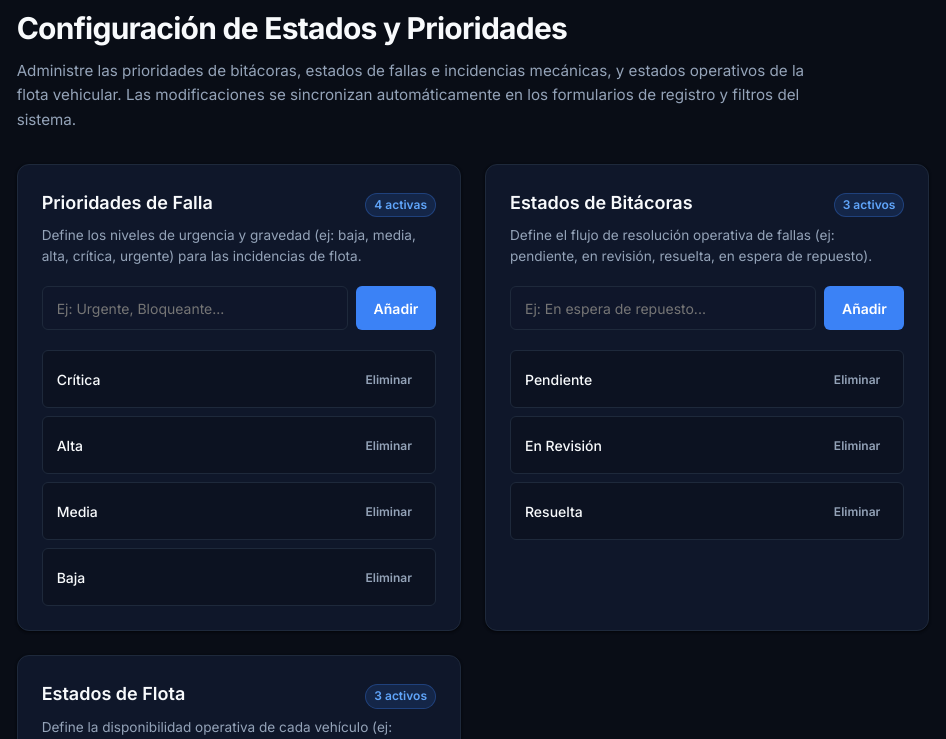
Test case: ConfiguracionCatalogosPage › evita agregar prioridades duplicadas y anuncia el error
This screenshot has width=946, height=739.
In the field named "Nombre de nueva prioridad": point(195, 308) [42,286,348,330], type "alta"
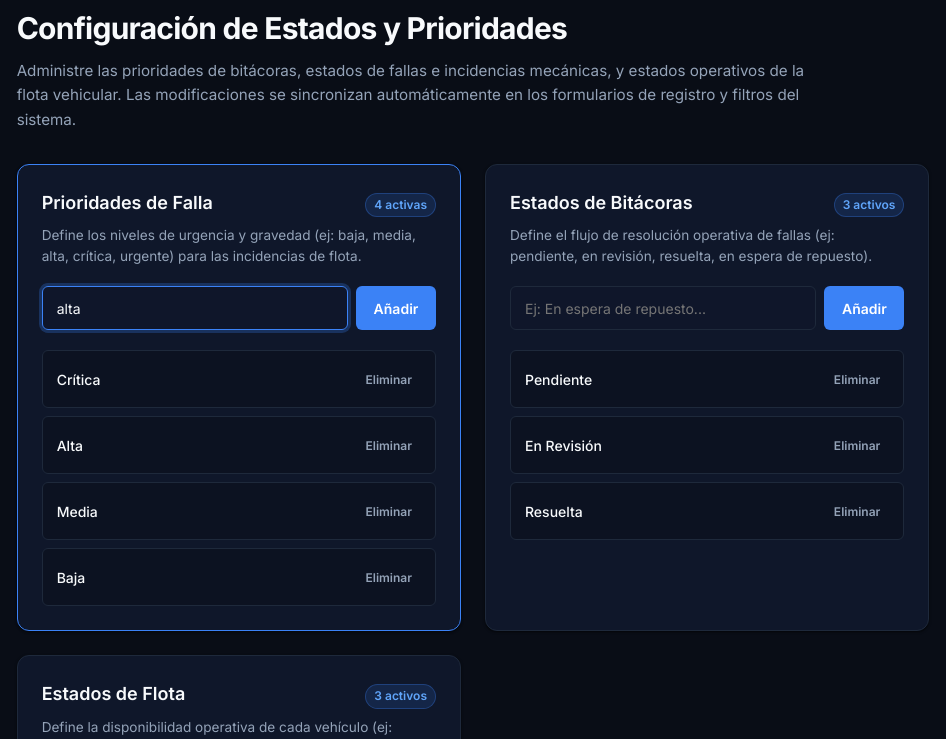
Click the button "Añadir" below "Prioridades de Falla": point(396, 308) [356,286,436,330]
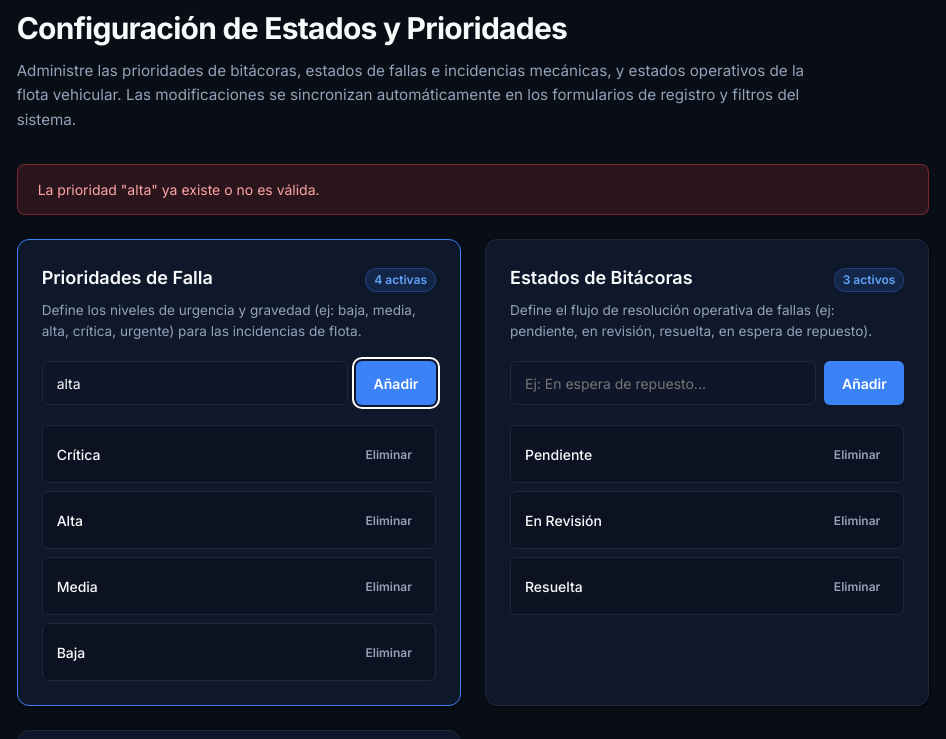
Expected: the text "La prioridad \"alta\" ya existe o no es válida." is shown, [17,164,929,215]
